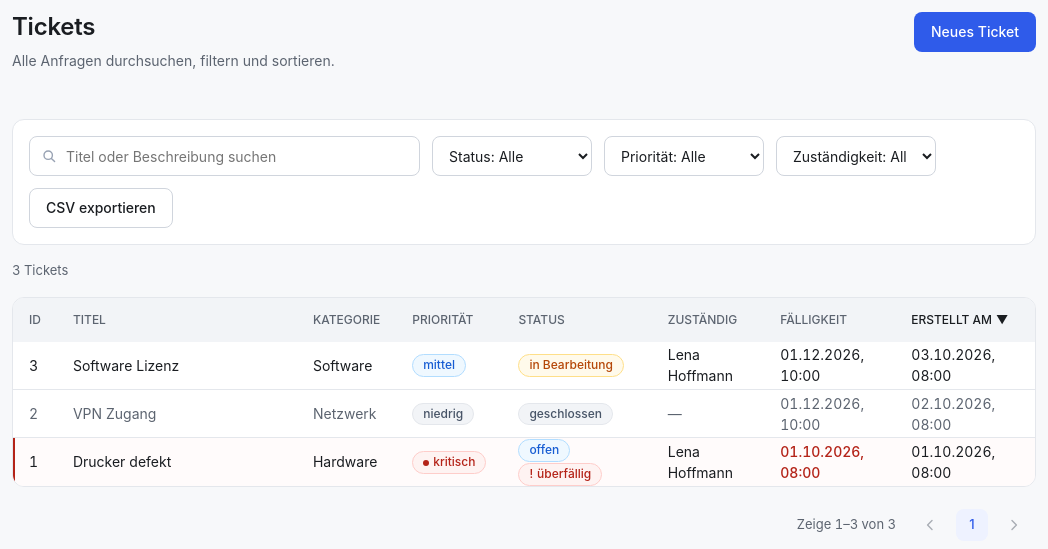
Test: TicketsPage › filters by priority and shows a chip
Check: the text "Drucker defekt" is shown, box [57,438,297,486]
Step 1. Select "kritisch" in the dropdown named "Nach Priorität filtern" → (684, 156), box [604,136,764,176]
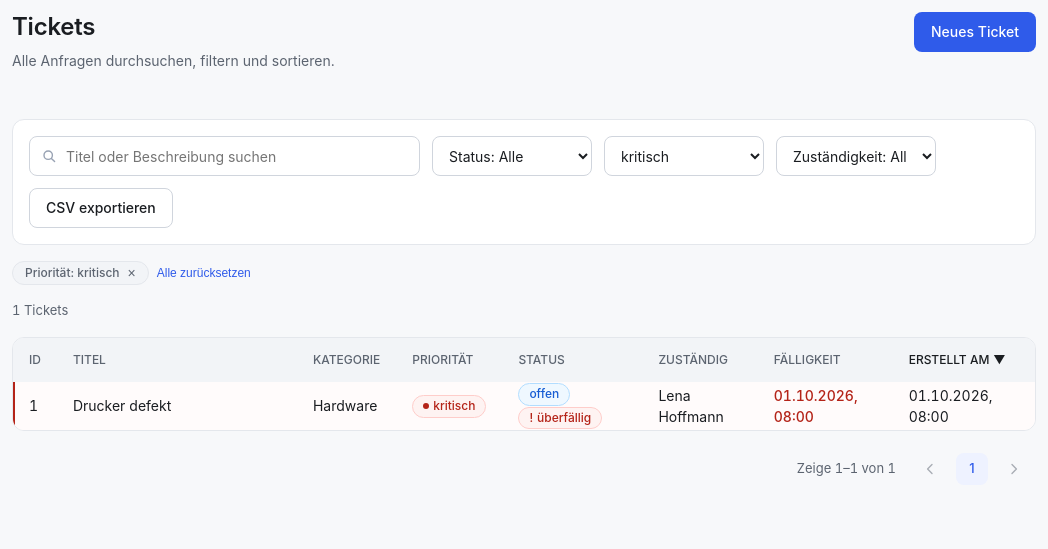
Check: the text "Drucker defekt" is shown, box [57,382,297,430]
Check: the text "VPN Zugang" is gone
Check: the text "Priorität: kritisch" is shown, box [25,265,120,280]
